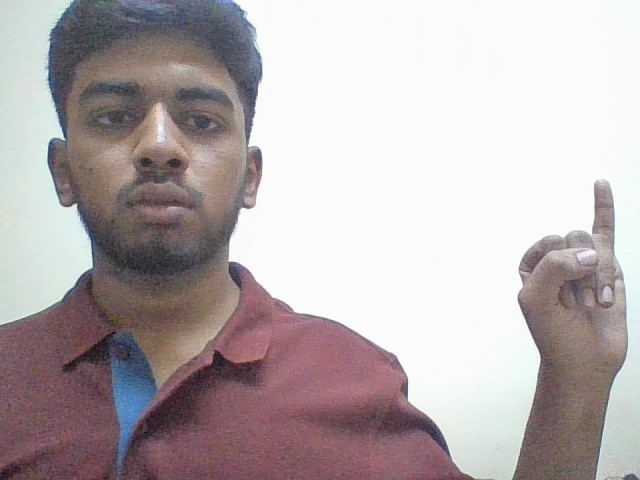I: (499, 170, 640, 414)
